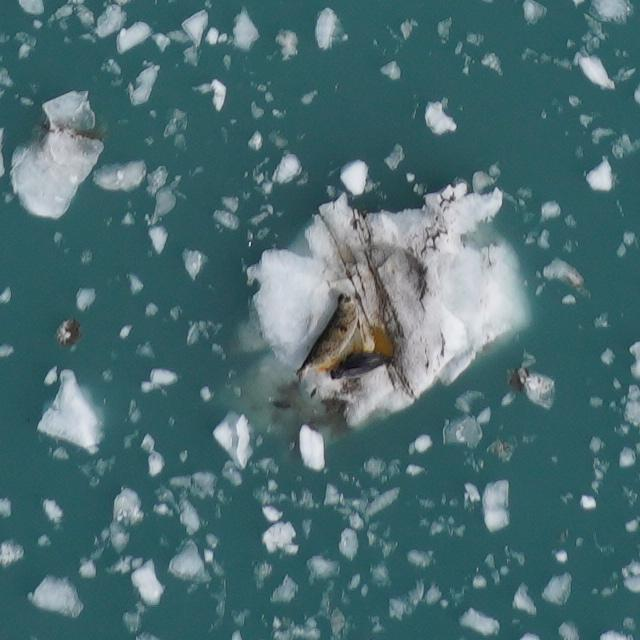seal: (286, 288, 370, 394)
